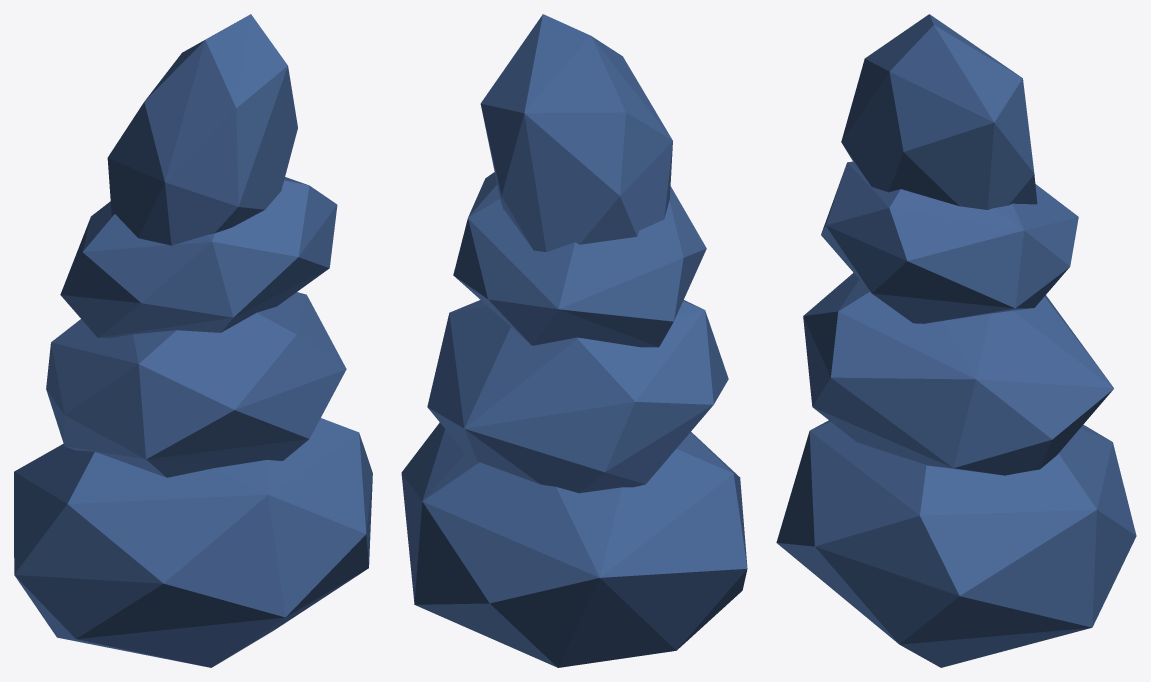
File: tree-winter-leaves-4-048.glb
3 renders of one model, left to right at view 1: azimuth 30°, elevation 25°; view 2: azimuth 150°, elevation 25°; view 3: azimuth 270°, elevation 25°, orthographic. The views are drawn at different scales.
Parts seen in each view (by area): view 1: TREE 4.005_201; view 2: TREE 4.005_201; view 3: TREE 4.005_201.
Part boxes in pixels (x1=…): TREE 4.005_201: x1=14, y1=14, x2=372, y2=667; TREE 4.005_201: x1=401, y1=14, x2=747, y2=667; TREE 4.005_201: x1=776, y1=14, x2=1136, y2=667.
Bounding box in the file's own units: 0.7503 × 1.25 × 0.646.
